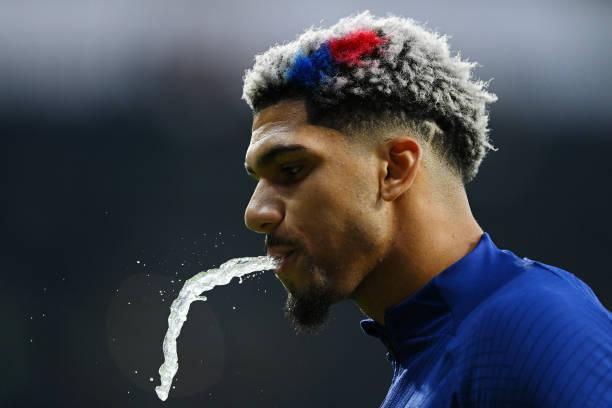Spitting: (204, 0, 514, 306)
